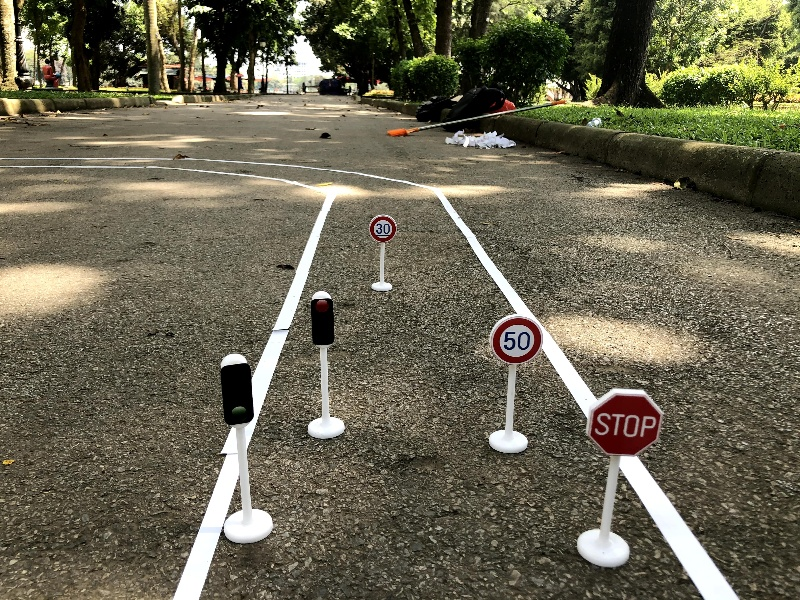Bien_bao_30: (366, 210, 404, 295)
Bien_bao_50: (474, 303, 546, 462)
Den_Do: (298, 288, 351, 441)
Den_Xanh: (203, 348, 281, 549)
Stop: (568, 384, 667, 574)
